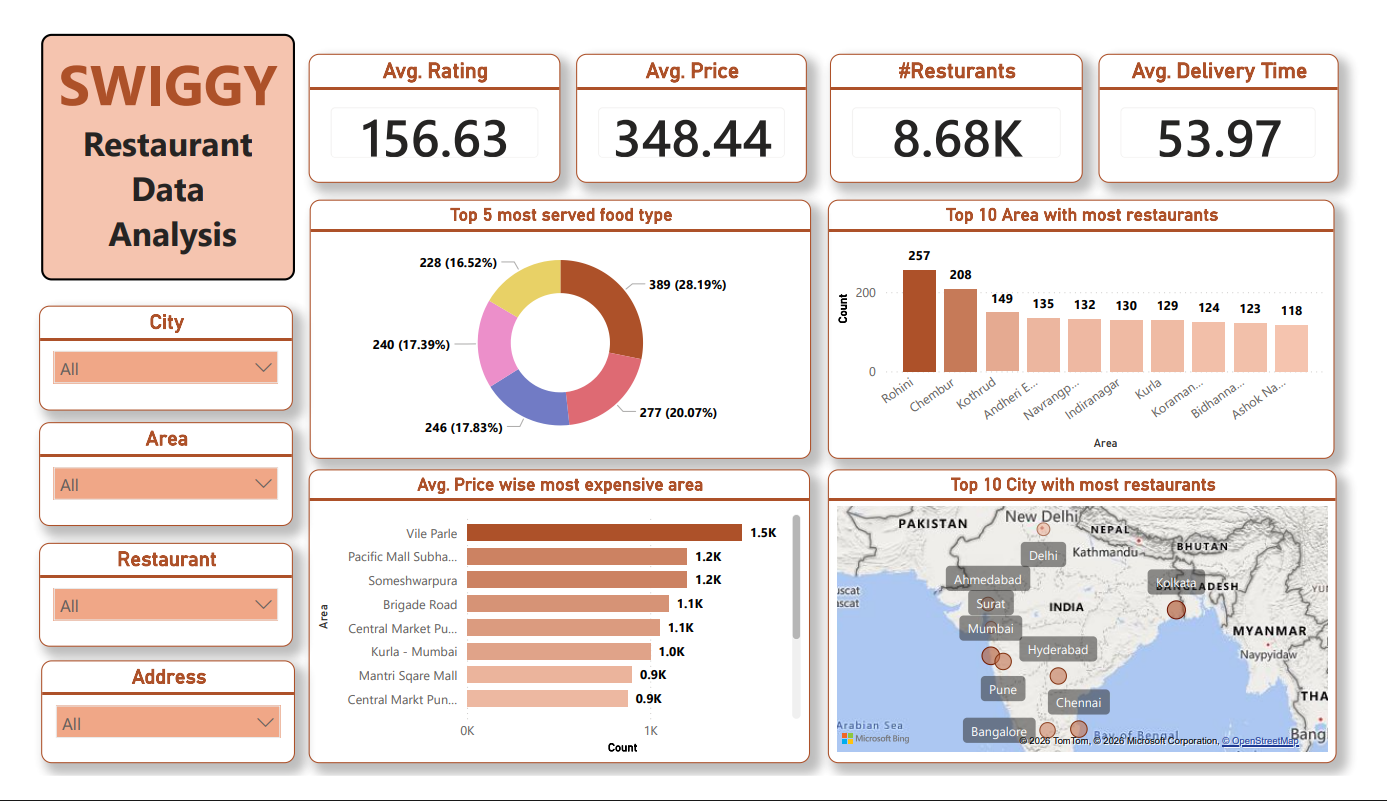

Layout of this report page (visuals, bound fields, positions):
{"tool":"powerbi","page":{"name":"Dashboard","canvas":[1280,720],"ordinal":0},"visuals":[{"type":"cardVisual","title":"Avg. Rating","fields":{"Data":["Avg(Swiggy Resturant Dataset.Total ratings)"]},"box":[275,31.7,240,123.3],"z":0},{"type":"cardVisual","title":"Avg. Price","fields":{"Data":["Avg(Swiggy Resturant Dataset.Price)"]},"box":[530,31.7,220,123.3],"z":1000},{"type":"cardVisual","title":"#Resturants","fields":{"Data":["Count(Swiggy Resturant Dataset.ID)"]},"box":[771.7,31.7,241.7,123.3],"z":2000},{"type":"cardVisual","title":"Avg. Delivery Time","fields":{"Data":["Avg(Swiggy Resturant Dataset.Delivery time)"]},"box":[1028.3,31.7,228.3,123.3],"z":3000},{"type":"columnChart","title":"Top 10 Area with most restaurants","fields":{"Category":["Swiggy Resturant Dataset.Area"],"Y":["CountNonNull(Swiggy Resturant Dataset.ID)"]},"box":[769.6,171,483,247],"z":4000},{"type":"donutChart","title":"Top 5 most served food type","fields":{"Category":["Swiggy Resturant Dataset.Food type"],"Y":["CountNonNull(Swiggy Resturant Dataset.ID)"]},"box":[275.5,171,478.3,247],"z":5000},{"type":"map","title":"Top 10 City with most restaurants","fields":{"Category":["Swiggy Resturant Dataset.City"],"Size":["CountNonNull(Swiggy Resturant Dataset.ID)"]},"box":[770,428.3,485,280],"z":6000},{"type":"clusteredBarChart","title":"Avg. Price wise most expensive area","fields":{"Category":["Swiggy Resturant Dataset.Area"],"Y":["Avg(Swiggy Resturant Dataset.Price)"]},"box":[275,428.3,478.3,280],"z":7000},{"type":"slicer","title":"City","fields":{"Values":["Swiggy Resturant Dataset.City"]},"box":[18.3,271.7,241.7,100],"z":8000},{"type":"slicer","title":"Area","fields":{"Values":["Swiggy Resturant Dataset.Area"]},"box":[18.3,383.3,241.7,98.3],"z":9000},{"type":"slicer","title":"Restaurant","fields":{"Values":["Swiggy Resturant Dataset.Restaurant"]},"box":[18.3,498.3,241.7,98.3],"z":10000},{"type":"slicer","title":"Address","fields":{"Values":["Swiggy Resturant Dataset.Address"]},"box":[20,610,241.7,98.3],"z":11000},{"type":"textbox","box":[20,13.3,241.7,235],"z":12000}]}

Visuals, with their boxes in screenshot pixels (x1, y1, x2, y2), scaled from the page's 1280x720 canvas onto the 1387x801 screenshot:
"Avg. Rating" cardVisual: x1=298 y1=35 x2=558 y2=172
"Avg. Price" cardVisual: x1=574 y1=35 x2=813 y2=172
"#Resturants" cardVisual: x1=836 y1=35 x2=1098 y2=172
"Avg. Delivery Time" cardVisual: x1=1114 y1=35 x2=1362 y2=172
"Top 10 Area with most restaurants" columnChart: x1=834 y1=190 x2=1357 y2=465
"Top 5 most served food type" donutChart: x1=299 y1=190 x2=817 y2=465
"Top 10 City with most restaurants" map: x1=834 y1=476 x2=1360 y2=788
"Avg. Price wise most expensive area" clusteredBarChart: x1=298 y1=476 x2=816 y2=788
"City" slicer: x1=20 y1=302 x2=282 y2=414
"Area" slicer: x1=20 y1=426 x2=282 y2=536
"Restaurant" slicer: x1=20 y1=554 x2=282 y2=664
"Address" slicer: x1=22 y1=679 x2=284 y2=788
textbox: x1=22 y1=15 x2=284 y2=276
